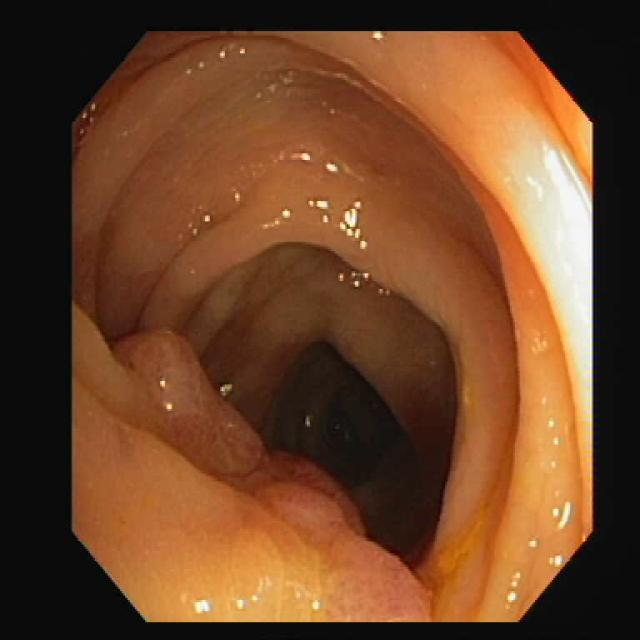tumor: (97, 331, 428, 618)
